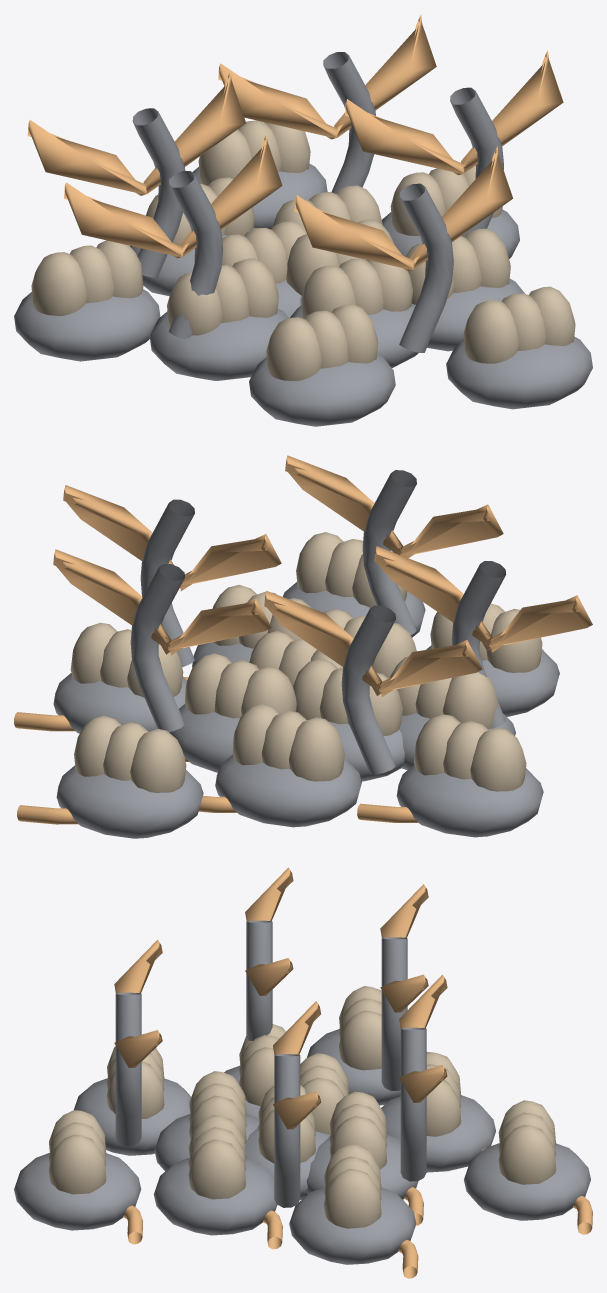
Rendered from bio_acid_mat_12_far.glb.
The picture shows the model from 3 angles, top to bottom: view 1: azimuth 30°, elevation 25°; view 2: azimuth 150°, elevation 25°; view 3: azimuth 270°, elevation 25°; orthographic projection. The views are drawn at different scales.
Visible parts, largest first — view 1: Microbial cushion.010, Microbial cushion.007, Microbial cushion.009, Secondary fan lobe.002, Secondary fan lobe, Secondary fan lobe.008, Secondary fan lobe.004, Secondary fan lobe.006, Reaction vesicle.021, Reaction vesicle.030, Reaction vesicle.027, Microbial cushion.004 (+20 smaller); view 2: Microbial cushion.011, Microbial cushion.009, Microbial cushion.006, Reaction vesicle.027, Reaction vesicle.033, Reaction vesicle.018, Secondary fan lobe.002, Secondary fan lobe.006, Secondary fan lobe.008, Secondary fan lobe.004, Secondary fan lobe, Reaction vesicle.009 (+24 smaller); view 3: Microbial cushion.010, Microbial cushion.011, Microbial cushion.008, Microbial cushion.005, Reaction vesicle.024, Reaction vesicle.015, Reaction vesicle.030, Reaction vesicle.033, Microbial cushion.006, Branching support.002, Branching support.003, Branching support (+24 smaller).
Boxes of the visible parts, x1,y1,x2,y2 form: Microbial cushion.010: (446, 336, 592, 409); Microbial cushion.007: (249, 354, 395, 426); Microbial cushion.009: (14, 289, 160, 361); Secondary fan lobe.002: (27, 71, 245, 195); Secondary fan lobe: (345, 50, 563, 175); Secondary fan lobe.008: (64, 133, 282, 258); Secondary fan lobe.004: (294, 146, 512, 271); Secondary fan lobe.006: (218, 14, 436, 139); Reaction vesicle.021: (266, 304, 378, 381); Reaction vesicle.030: (463, 286, 575, 363); Reaction vesicle.027: (31, 240, 143, 315); Microbial cushion.004: (149, 309, 288, 380); Microbial cushion.011: (56, 765, 203, 838); Microbial cushion.009: (396, 764, 543, 837); Microbial cushion.006: (215, 754, 361, 827); Reaction vesicle.027: (413, 714, 526, 791); Reaction vesicle.033: (74, 715, 186, 792); Reaction vesicle.018: (232, 704, 344, 781); Secondary fan lobe.002: (264, 590, 482, 696); Secondary fan lobe.006: (53, 549, 271, 655); Secondary fan lobe.008: (374, 546, 592, 652); Secondary fan lobe.004: (285, 455, 503, 558); Secondary fan lobe: (63, 485, 281, 591); Reaction vesicle.009: (185, 653, 296, 718); Microbial cushion.010: (14, 1153, 141, 1230); Microbial cushion.011: (464, 1143, 590, 1220); Microbial cushion.008: (289, 1187, 416, 1264); Microbial cushion.005: (153, 1158, 277, 1235); Reaction vesicle.024: (324, 1144, 381, 1228); Reaction vesicle.015: (188, 1115, 245, 1199); Reaction vesicle.030: (49, 1110, 106, 1194); Reaction vesicle.033: (498, 1100, 556, 1184); Microbial cushion.006: (381, 1095, 495, 1172); Branching support.002: (115, 992, 141, 1146); Branching support.003: (400, 1027, 426, 1181); Branching support: (274, 1054, 300, 1207).
Bounding box in the file's own units: 1.85 × 0.7549 × 2.
